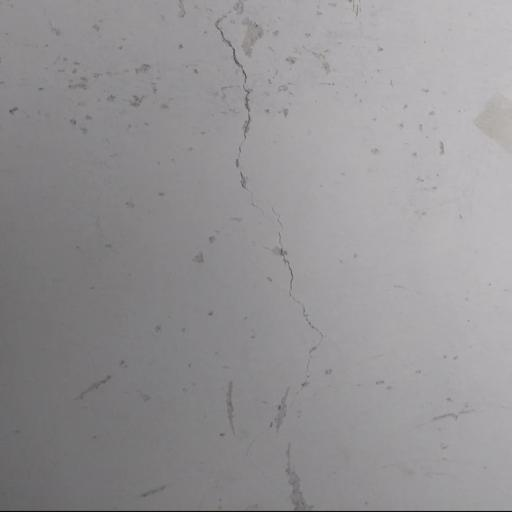minor_crack: (209, 6, 354, 421)
